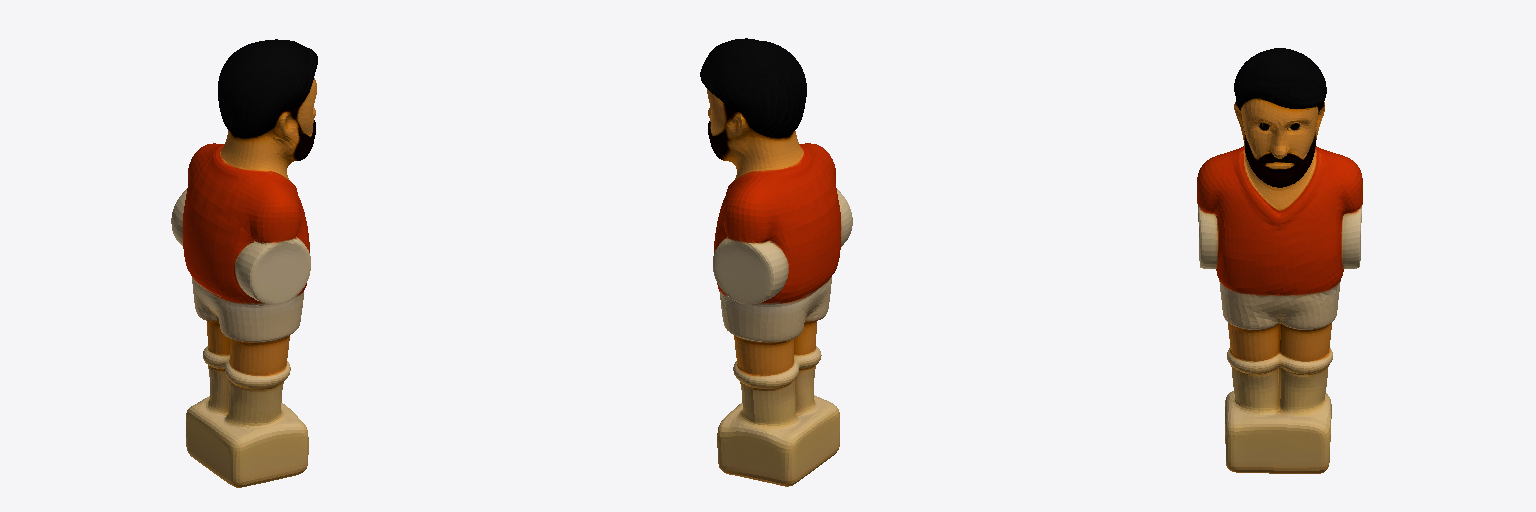
3 renders of one model, left to right at view 1: azimuth 30°, elevation 25°; view 2: azimuth 150°, elevation 25°; view 3: azimuth 270°, elevation 25°, orthographic.
Parts seen in each view (by area): view 1: tripo_node_a2e87ec6-d44d-4470-afeb-7e9f4b72f6f5; view 2: tripo_node_a2e87ec6-d44d-4470-afeb-7e9f4b72f6f5; view 3: tripo_node_a2e87ec6-d44d-4470-afeb-7e9f4b72f6f5.
Part boxes in pixels (x1,y1,x2,y2): tripo_node_a2e87ec6-d44d-4470-afeb-7e9f4b72f6f5: (171, 39, 317, 487); tripo_node_a2e87ec6-d44d-4470-afeb-7e9f4b72f6f5: (700, 38, 852, 486); tripo_node_a2e87ec6-d44d-4470-afeb-7e9f4b72f6f5: (1197, 48, 1362, 473).
Size of the model in its own units: 0.2985 by 0.9999 by 0.3641.
1 materials, 1 textured.